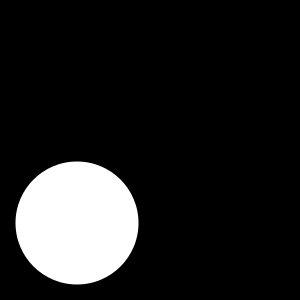rectangle: (16, 162, 138, 284)
triangle: (95, 171, 113, 189)
